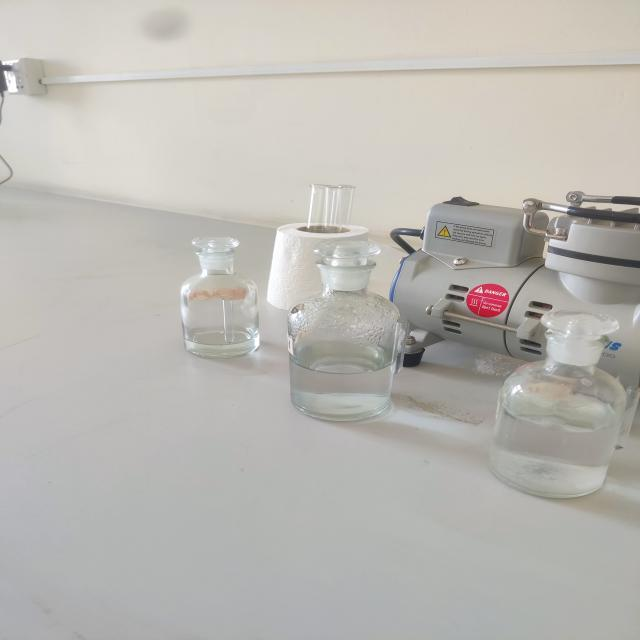Reagent_Bottle: (474, 296, 640, 512), (280, 229, 413, 434), (154, 214, 280, 366)
